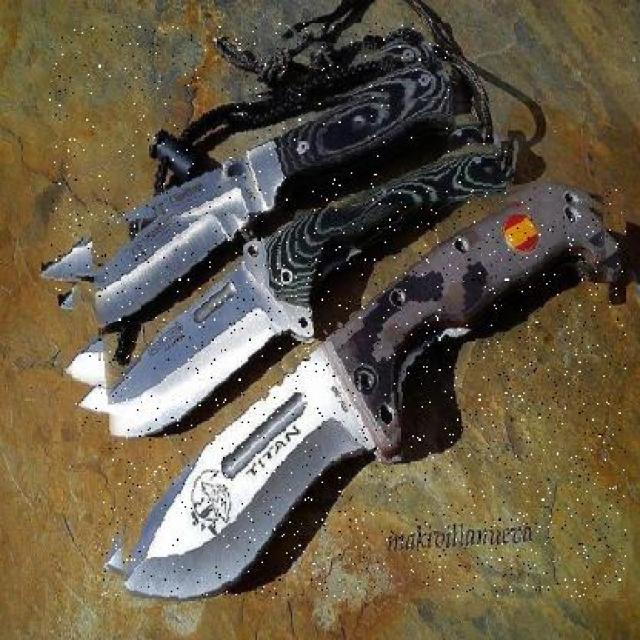knife: (100, 187, 626, 598), (72, 91, 508, 432), (50, 23, 453, 325)
